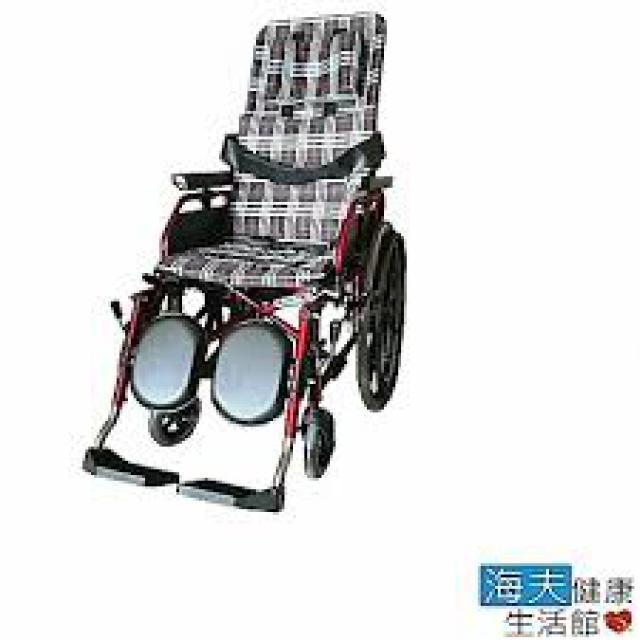wheelchairs: (98, 12, 410, 514)
